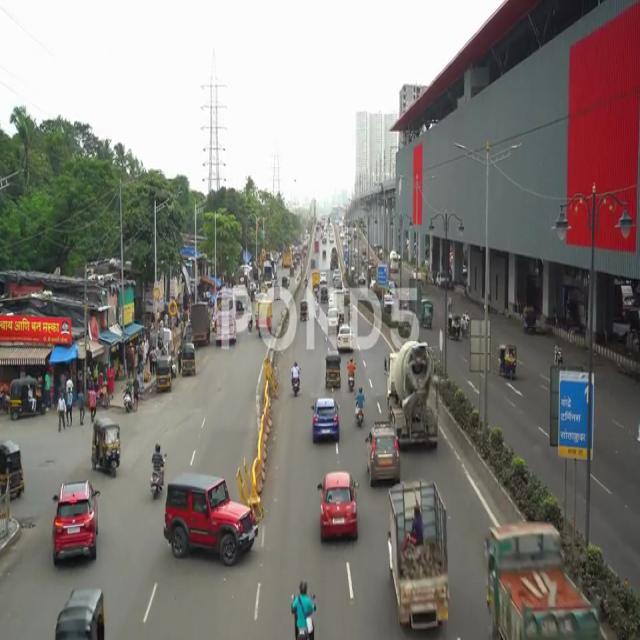car: (167, 478, 254, 571), (313, 465, 361, 543), (54, 487, 96, 573), (311, 396, 340, 444)
motorbike: (291, 576, 319, 640), (147, 437, 163, 507)
rikshaw: (92, 414, 123, 474), (497, 337, 520, 387)
truck: (472, 512, 613, 640), (388, 484, 453, 631)
